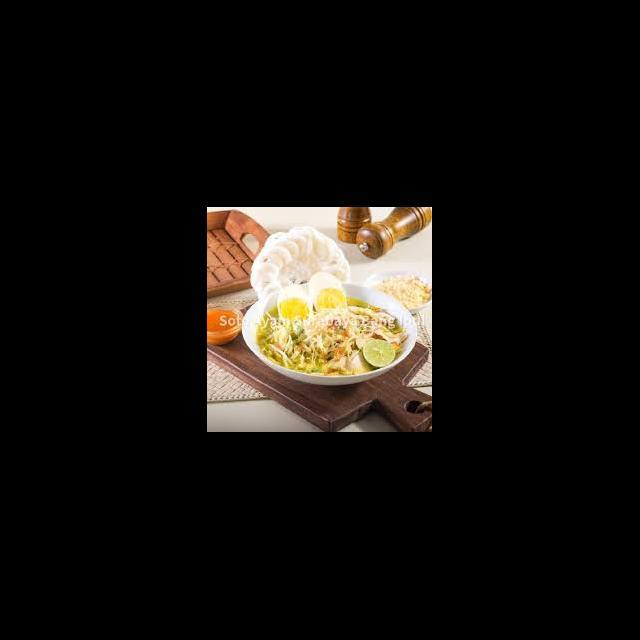Soto: (252, 273, 406, 375)
